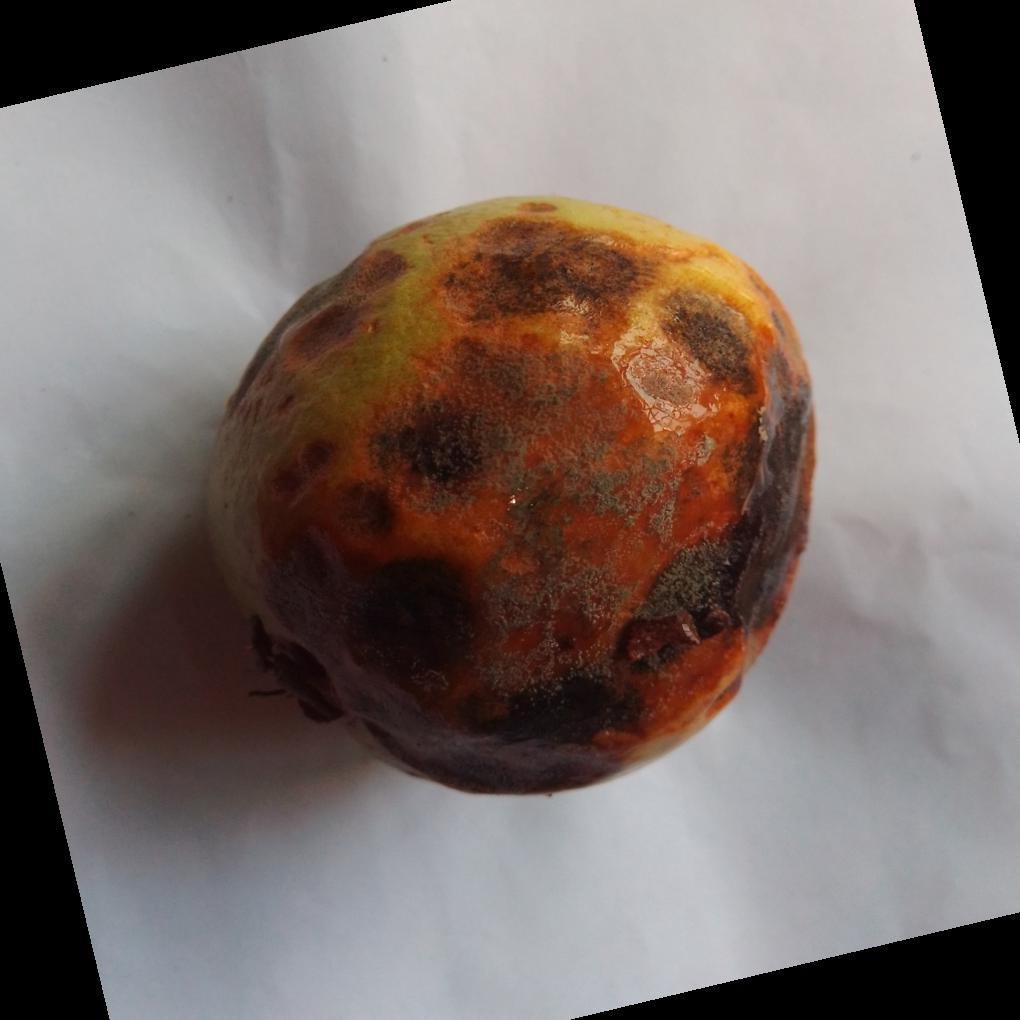FreshOrange: (200, 197, 819, 802)
